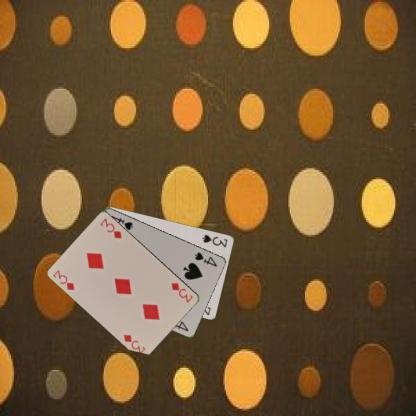3d: (51, 267, 76, 292), (168, 280, 194, 304)
3s: (200, 232, 229, 248)
4s: (192, 249, 218, 268)
